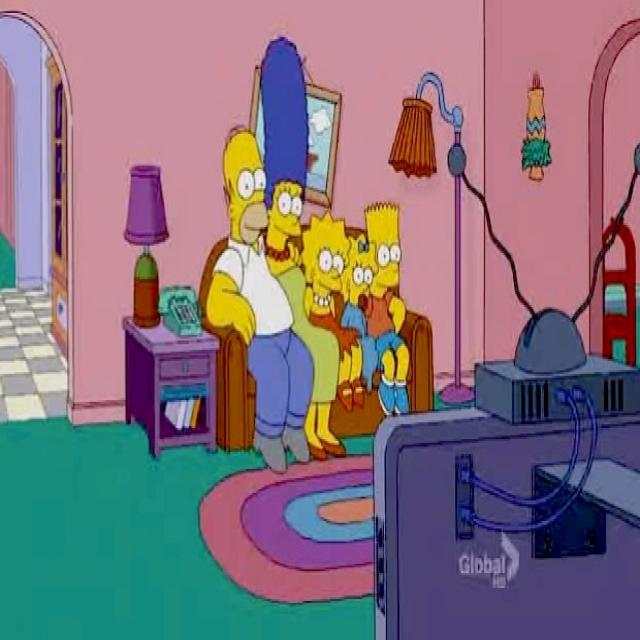Bart Simpson: (364, 201, 404, 305)
Homer Simpson: (221, 121, 270, 251)
Lisa Simpson: (300, 207, 352, 310)
Maggie Simpson: (342, 232, 379, 315)
Marge Simpson: (259, 34, 311, 264)
